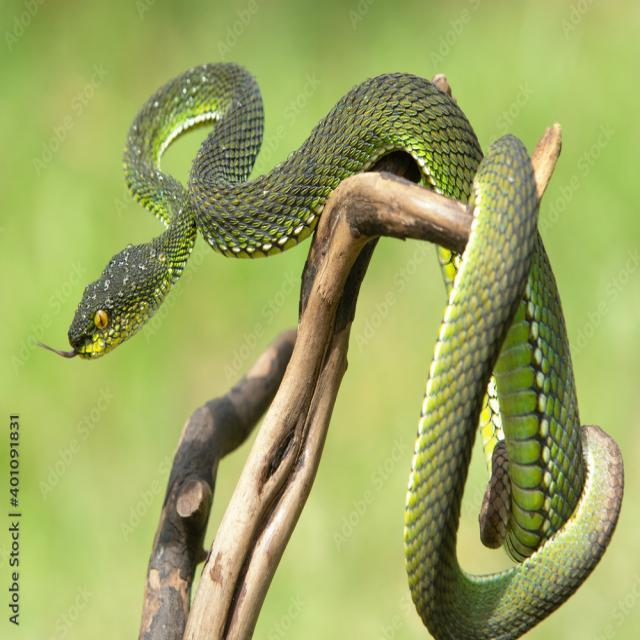Snake: (43, 1, 630, 636)
